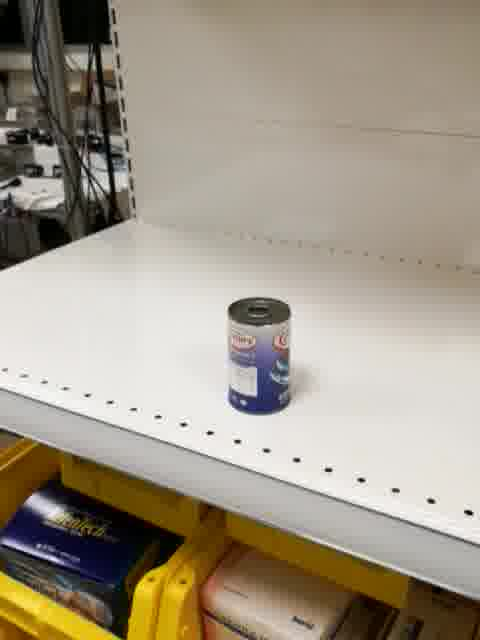sardine: (226, 296, 293, 417)
